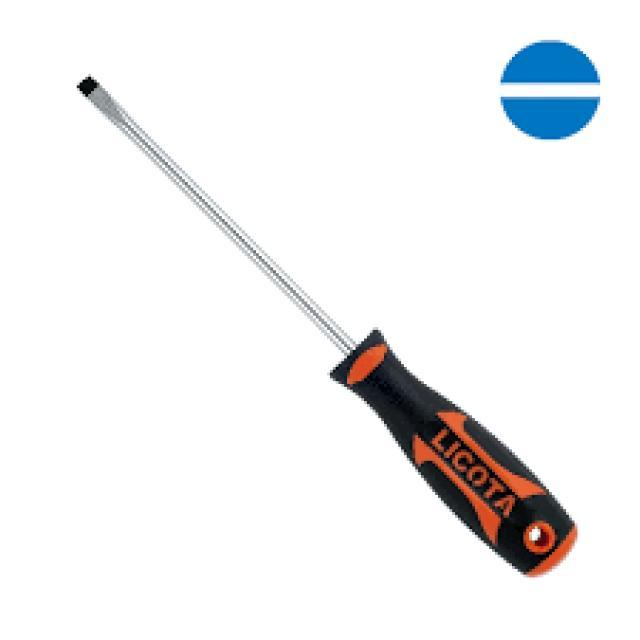screwdriver: (71, 71, 580, 586)
